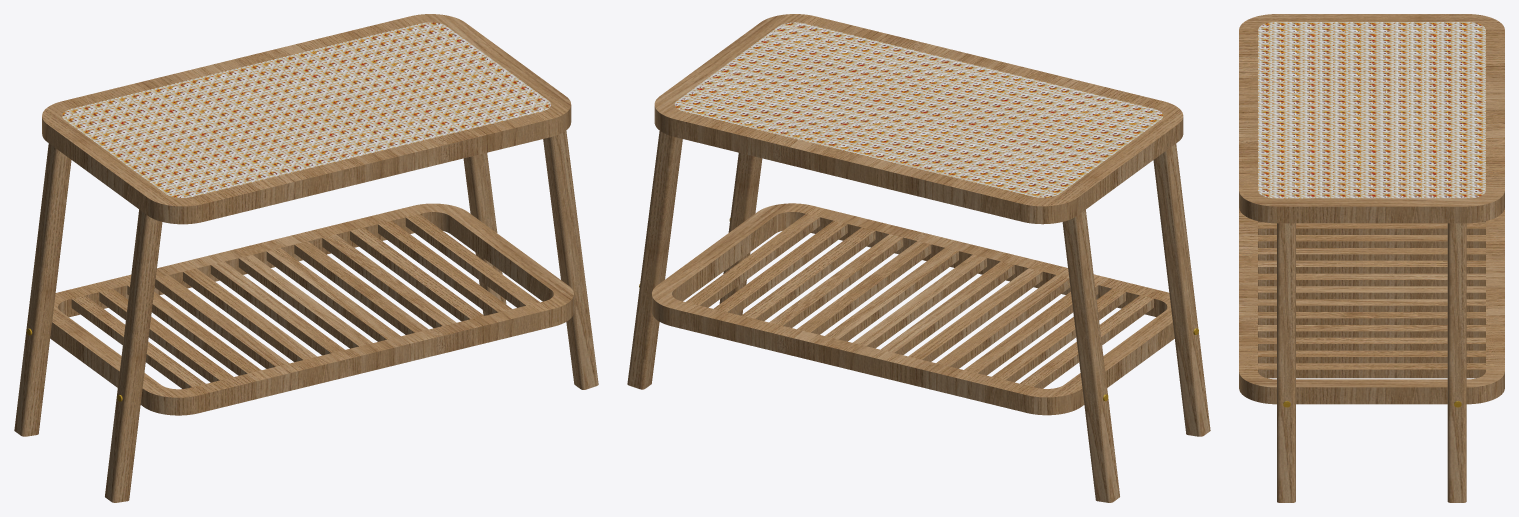
File: bancoLuna.glb
The picture shows the model from 3 angles, left to right: view 1: azimuth 30°, elevation 25°; view 2: azimuth 150°, elevation 25°; view 3: azimuth 270°, elevation 25°; orthographic projection. The views are drawn at different scales.
Visible parts, largest first — view 1: Banco LUNA; view 2: Banco LUNA; view 3: Banco LUNA.
Part boxes in pixels (x1,y1,x2,y2): Banco LUNA: [14, 14, 598, 502]; Banco LUNA: [627, 14, 1210, 502]; Banco LUNA: [1239, 14, 1504, 502].
Size of the model in its own units: 69.85 by 41 by 35.
Materials: 3 (3 with a texture image).
